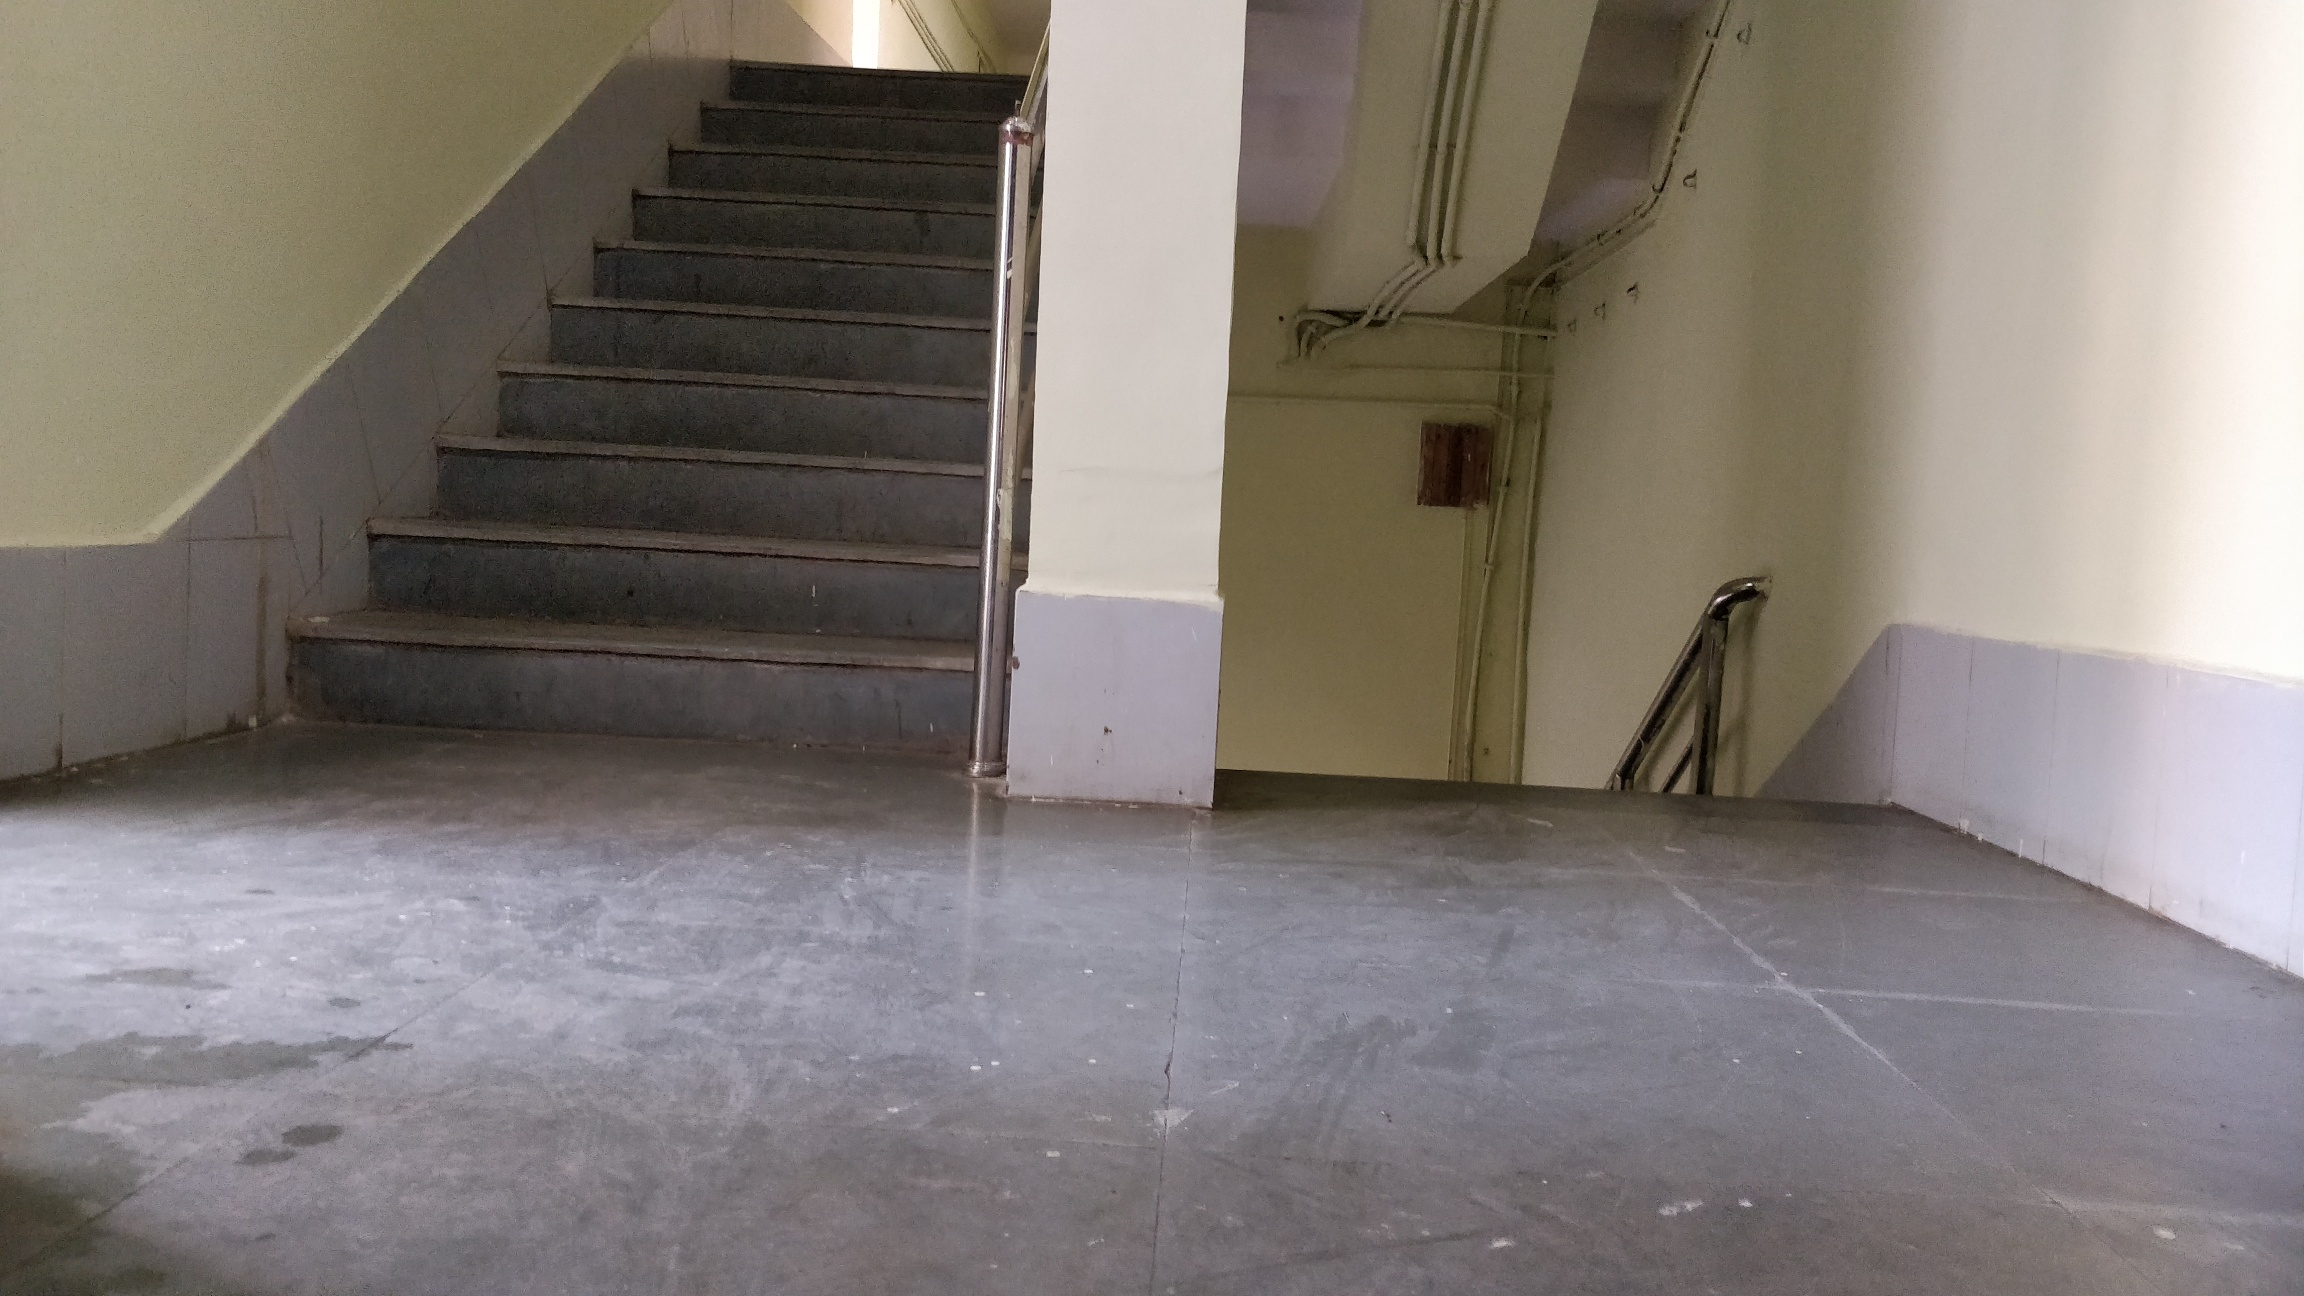stairs_up: (307, 73, 1022, 758)
